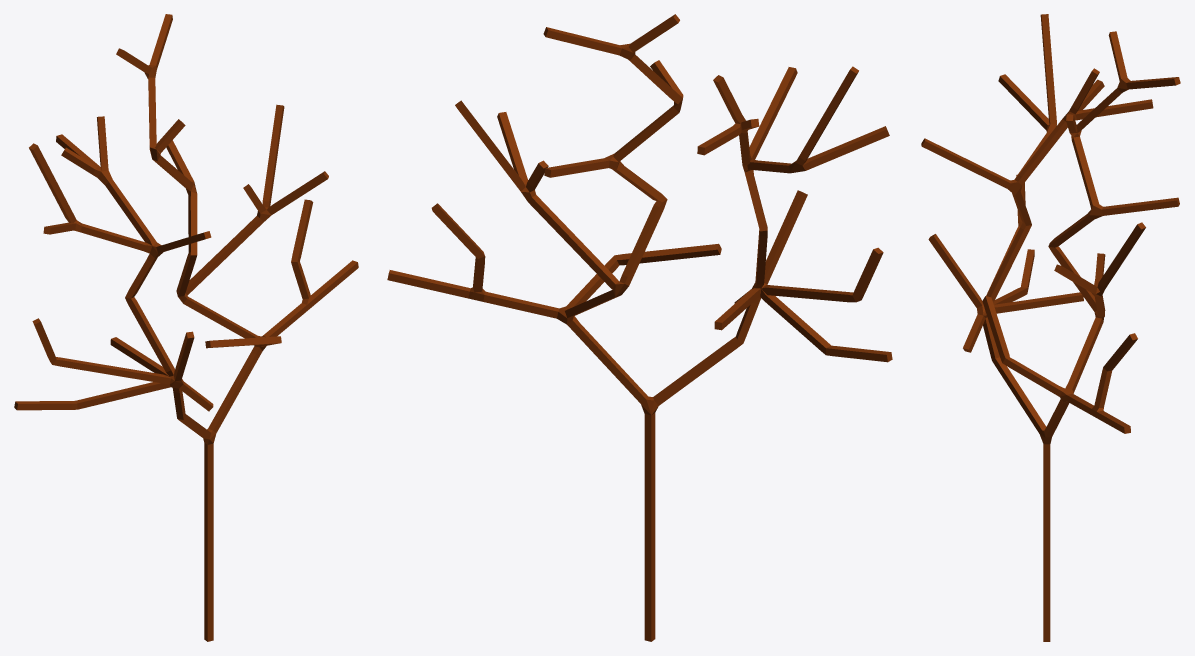
The model's file is kuru-agac1.fbx.
3 views of the same model, side by side, from view 1: azimuth 30°, elevation 25°; view 2: azimuth 150°, elevation 25°; view 3: azimuth 270°, elevation 25° (orthographic). The views are drawn at different scales.
Parts seen in each view (by area): view 1: Cube; view 2: Cube; view 3: Cube.
Boxes of the visible parts, bbox=[...] form: Cube: bbox=[14, 14, 358, 641]; Cube: bbox=[387, 14, 892, 641]; Cube: bbox=[921, 14, 1180, 641].
Bounding box in the file's own units: 230 × 326 × 132.
